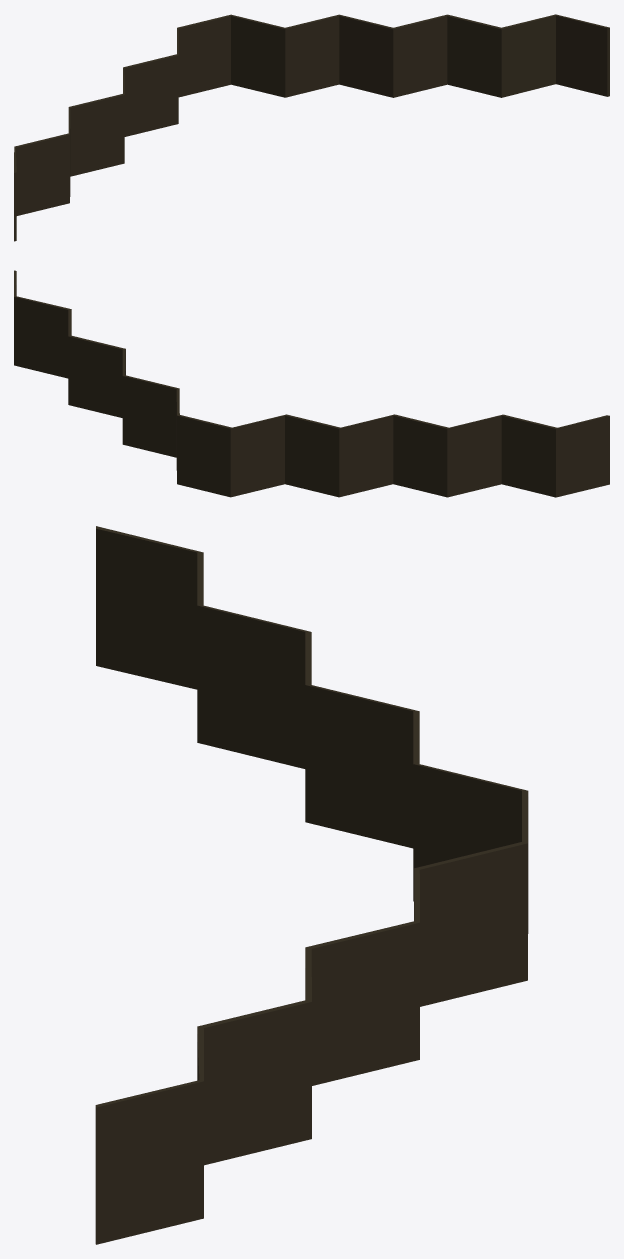
The model's file is Stage1OuterWalls2.fbx.
The picture shows the model from 3 angles, top to bottom: view 1: azimuth 30°, elevation 25°; view 2: azimuth 150°, elevation 25°; view 3: azimuth 270°, elevation 25°; orthographic projection. The views are drawn at different scales.
Visible parts, largest first — view 1: OuterWalls2; view 2: OuterWalls2; view 3: OuterWalls2.
Part boxes in pixels (left/top/right/bottom): OuterWalls2: left=14, top=14, right=609, bottom=241; OuterWalls2: left=14, top=270, right=609, bottom=497; OuterWalls2: left=95, top=526, right=528, bottom=1244.
Size of the model in its own units: 102 by 11.22 by 32.03.
